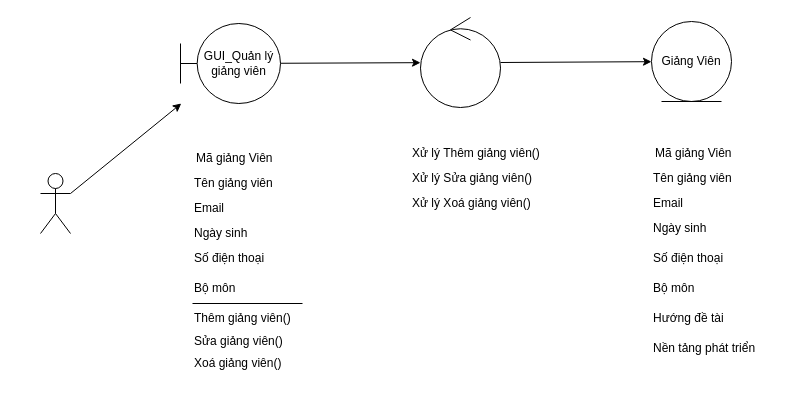
The diagram is 786 pixels wide and 396 high, and some of its shapes have lost their labels. The shapes that lost their labels are listed below. From the top down, each one's centre as x and y in pixels, then its label:
At [460,62]: "CTL_Giảng viên".
At [55,203]: "Người quản trị".
